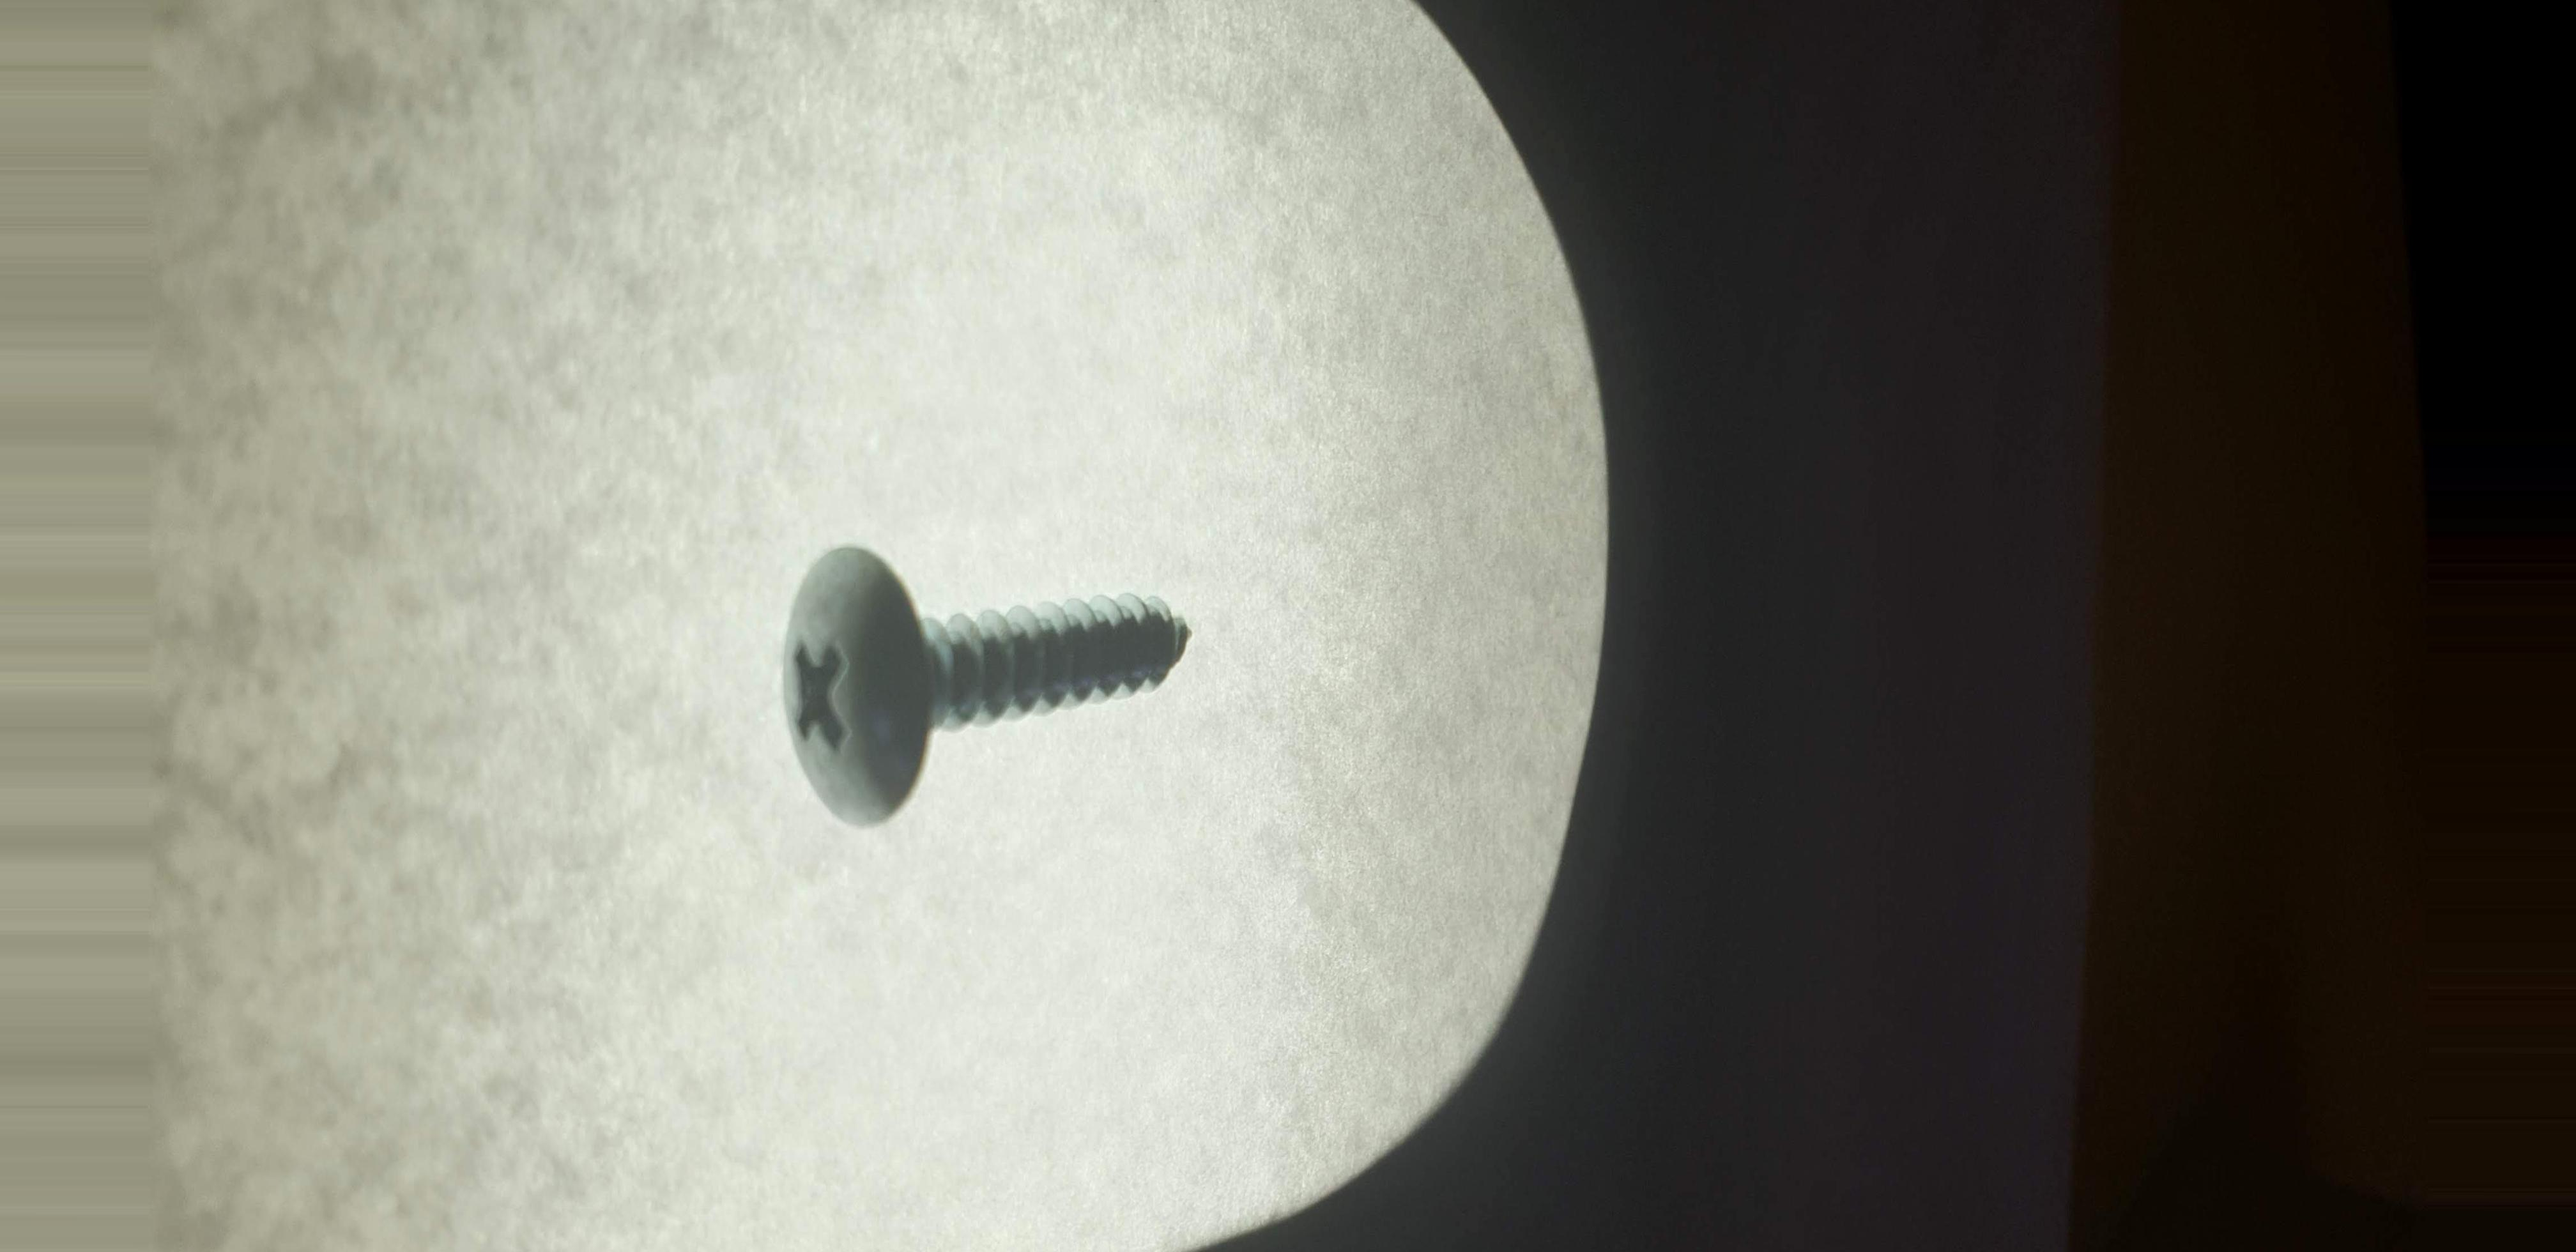S002: (734, 475, 1268, 868)
